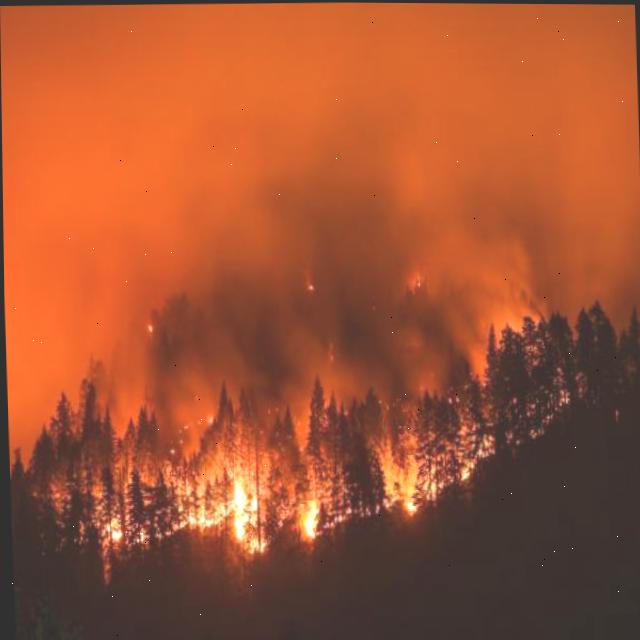fire: (190, 475, 266, 555)
smoke: (0, 4, 640, 470)
